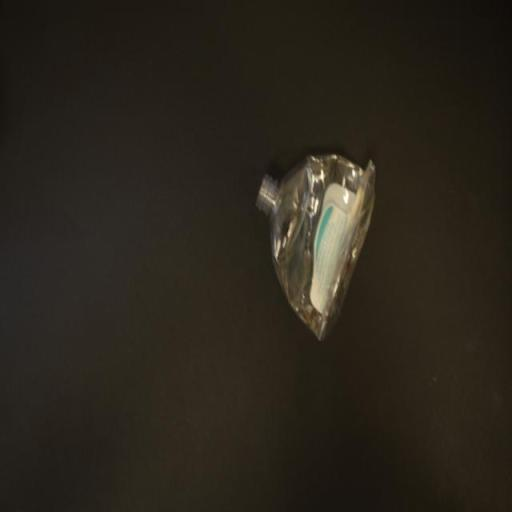plastic: (254, 150, 378, 340)
